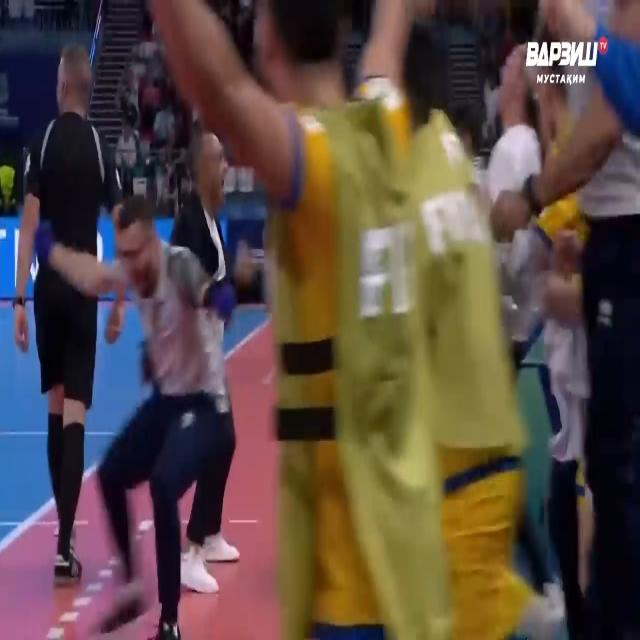Field: (0, 304, 268, 547)
Referee: (23, 27, 110, 610)
